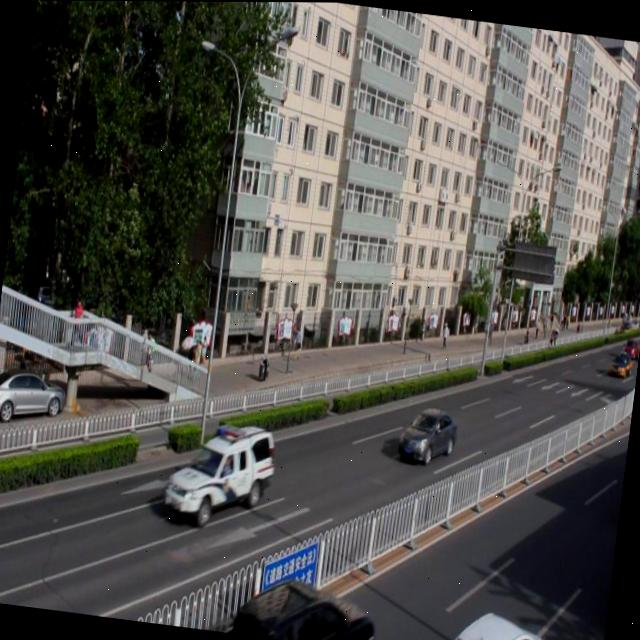car: (160, 415, 276, 528), (226, 570, 375, 640), (436, 602, 558, 640), (397, 402, 457, 465)
